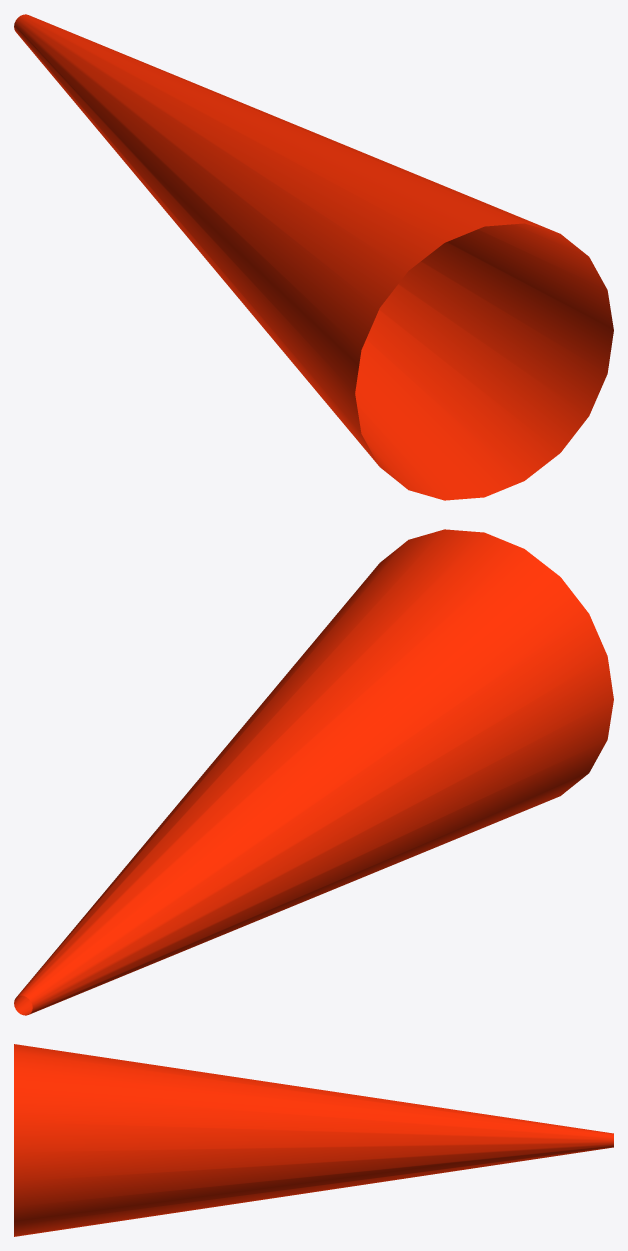
File: M_VFX_Thruster_Cone_1.fbx
3 renders of one model, top to bottom at view 1: azimuth 30°, elevation 25°; view 2: azimuth 150°, elevation 25°; view 3: azimuth 270°, elevation 25°, orthographic. The views are drawn at different scales.
Visible parts, largest first — view 1: Object001; view 2: Object001; view 3: Object001.
Boxes of the visible parts, x1,y1,x2,y2 form: Object001: (14,14,613,500); Object001: (14,529,613,1015); Object001: (14,1044,613,1236).
Bounding box in the file's own units: 84.7 × 84.7 × 261.
